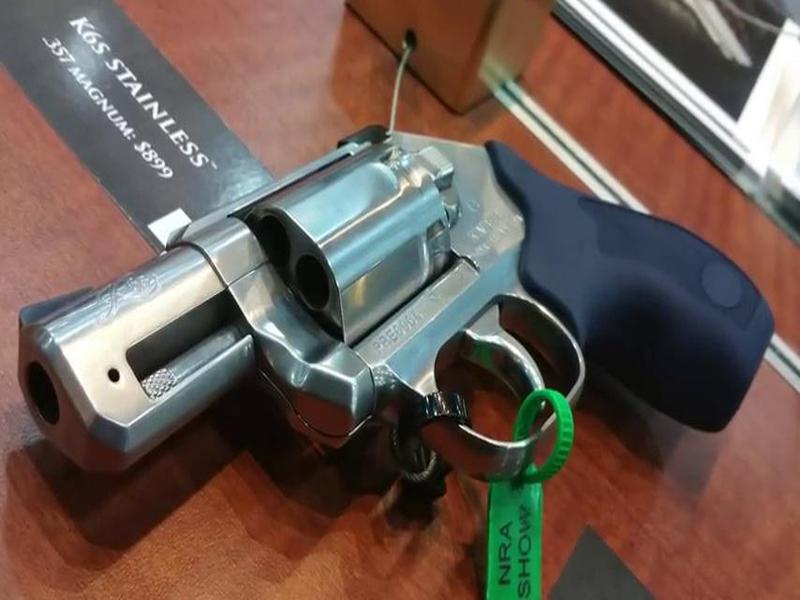Revolver: (37, 124, 781, 507)
